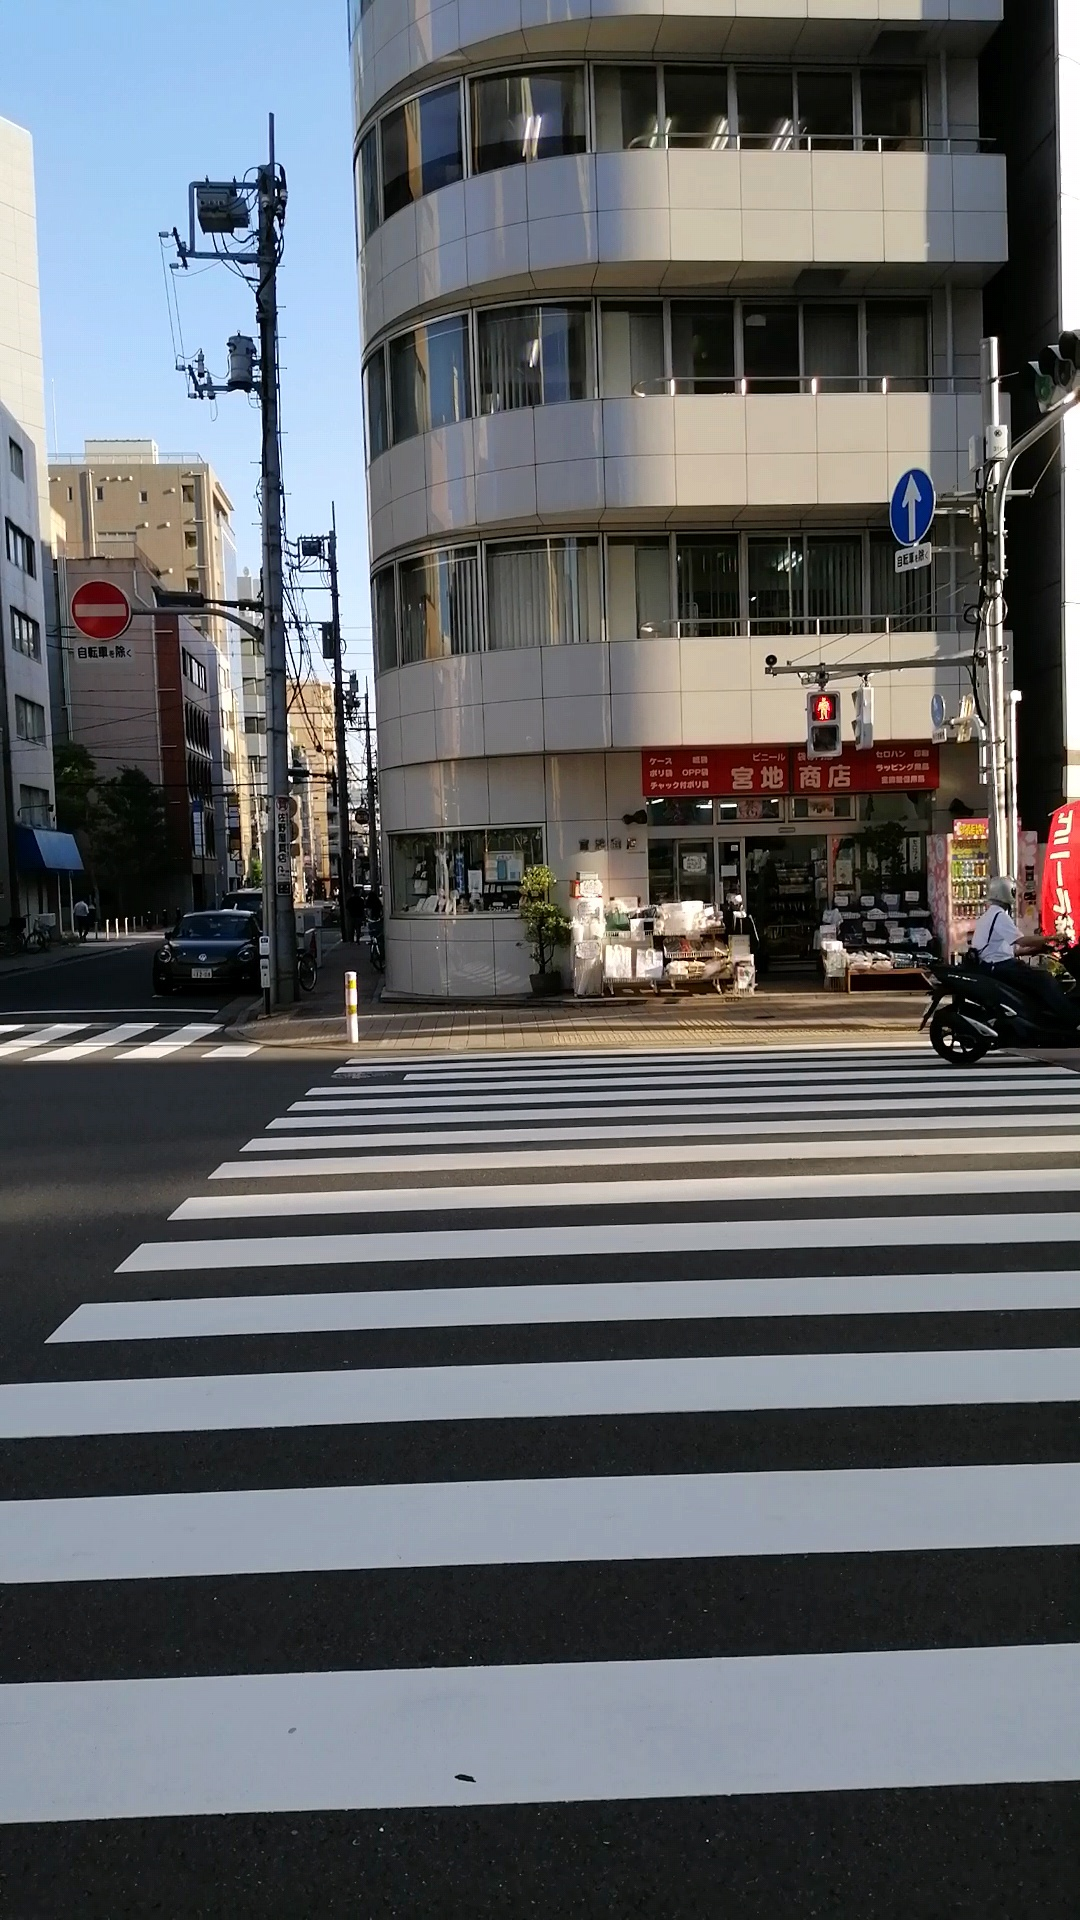red: (804, 691, 844, 760)
